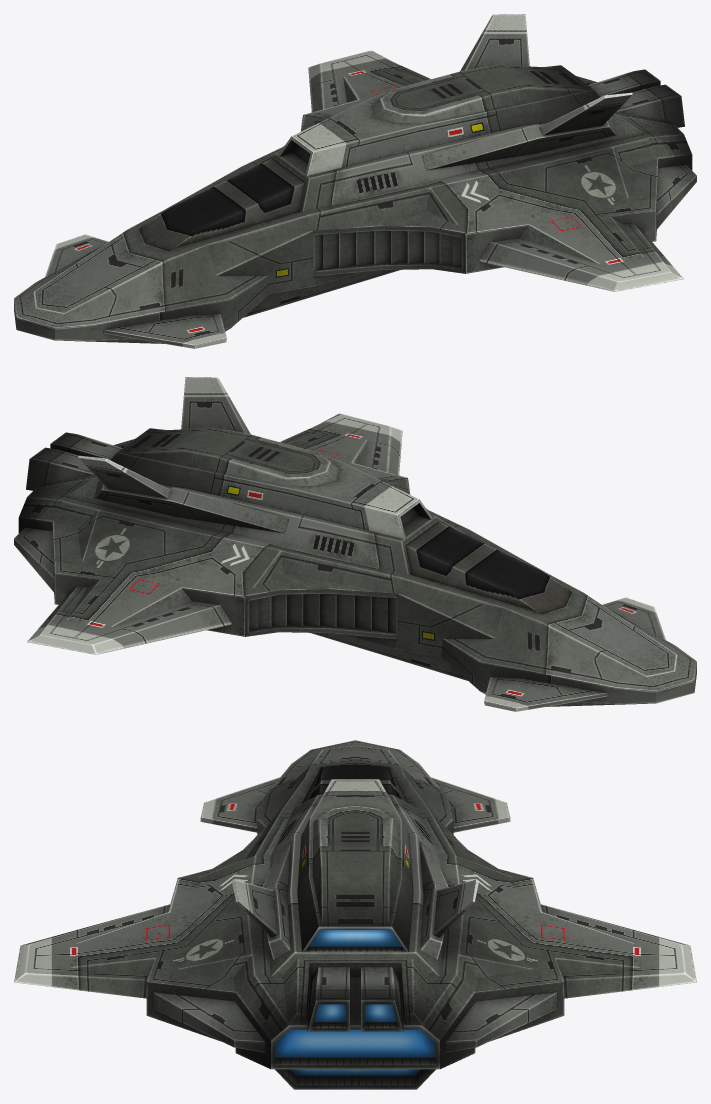
File: space_frigate_5.FBX
3 renders of one model, top to bottom at view 1: azimuth 30°, elevation 25°; view 2: azimuth 150°, elevation 25°; view 3: azimuth 270°, elevation 25°, orthographic. The views are drawn at different scales.
Parts seen in each view (by area): view 1: space_frigate_5; view 2: space_frigate_5; view 3: space_frigate_5.
Boxes of the visible parts, x1,y1,x2,y2 form: space_frigate_5: (14,14,696,348); space_frigate_5: (14,377,696,711); space_frigate_5: (14,740,696,1089).
Size of the model in its own units: 50.13 by 12.55 by 41.93.
Materials: 1 (1 with a texture image).
